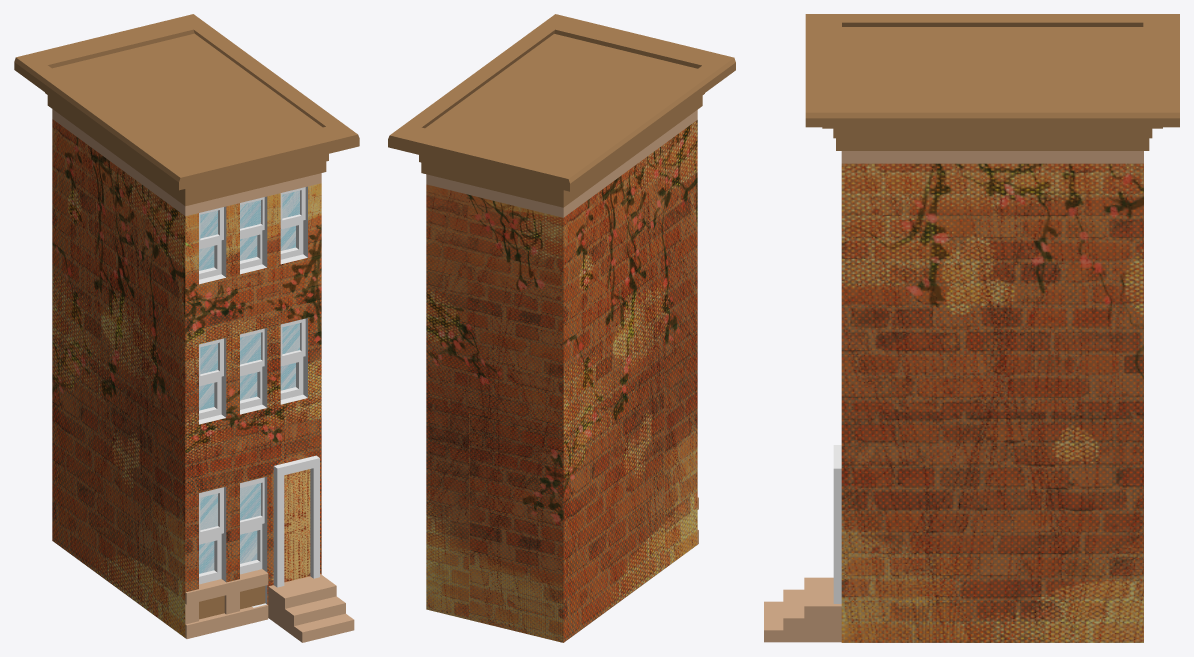
Rendered from building1_final.fbx.
3 views of the same model, side by side, from view 1: azimuth 30°, elevation 25°; view 2: azimuth 150°, elevation 25°; view 3: azimuth 270°, elevation 25° (orthographic). The views are drawn at different scales.
Parts seen in each view (by area): view 1: pCube3; view 2: pCube3; view 3: pCube3.
Boxes of the visible parts, left/top/right/bottom form: pCube3: left=14, top=14, right=359, bottom=642; pCube3: left=388, top=14, right=735, bottom=642; pCube3: left=764, top=14, right=1179, bottom=642.
Size of the model in its own units: 5.97 by 15.07 by 10.47.
